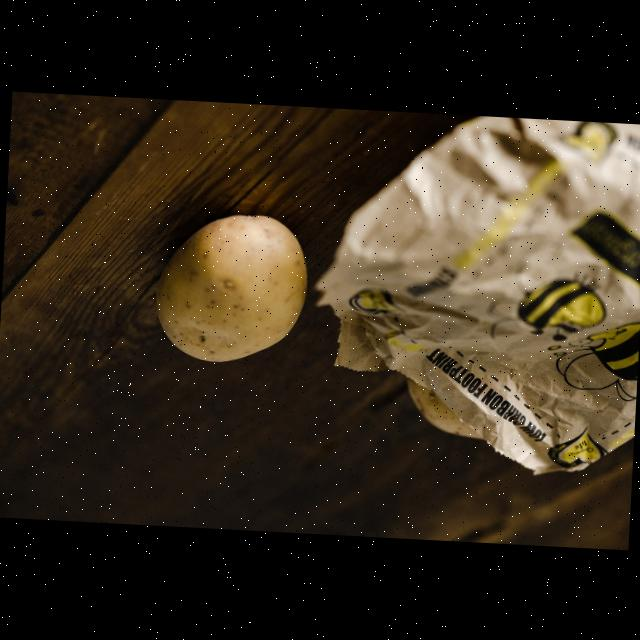Potato: (152, 208, 310, 365)
